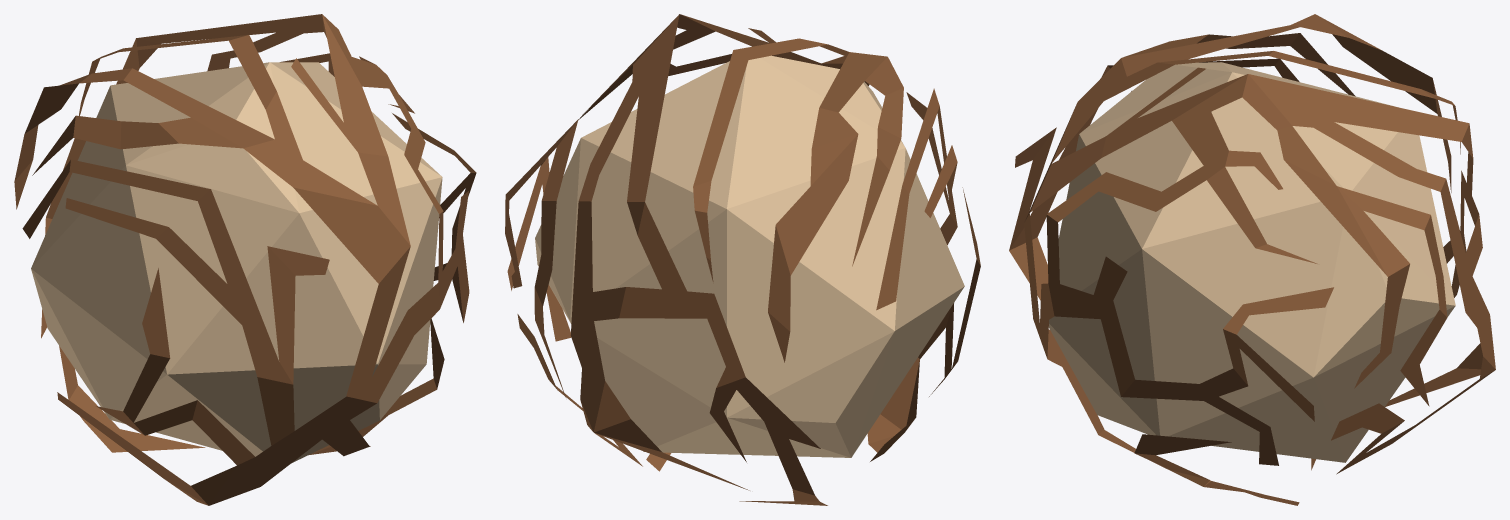
The model's file is tumbleweed.glb.
3 views of the same model, side by side, from view 1: azimuth 30°, elevation 25°; view 2: azimuth 150°, elevation 25°; view 3: azimuth 270°, elevation 25° (orthographic).
Parts seen in each view (by area): view 1: tumbleweed; view 2: tumbleweed; view 3: tumbleweed.
Boxes of the visible parts, bbox=[...] form: tumbleweed: bbox=[14, 14, 476, 505]; tumbleweed: bbox=[505, 14, 980, 505]; tumbleweed: bbox=[1009, 14, 1495, 505].
Size of the model in its own units: 1.05 by 1.1 by 1.11.
Materials: 1 (1 with a texture image).
